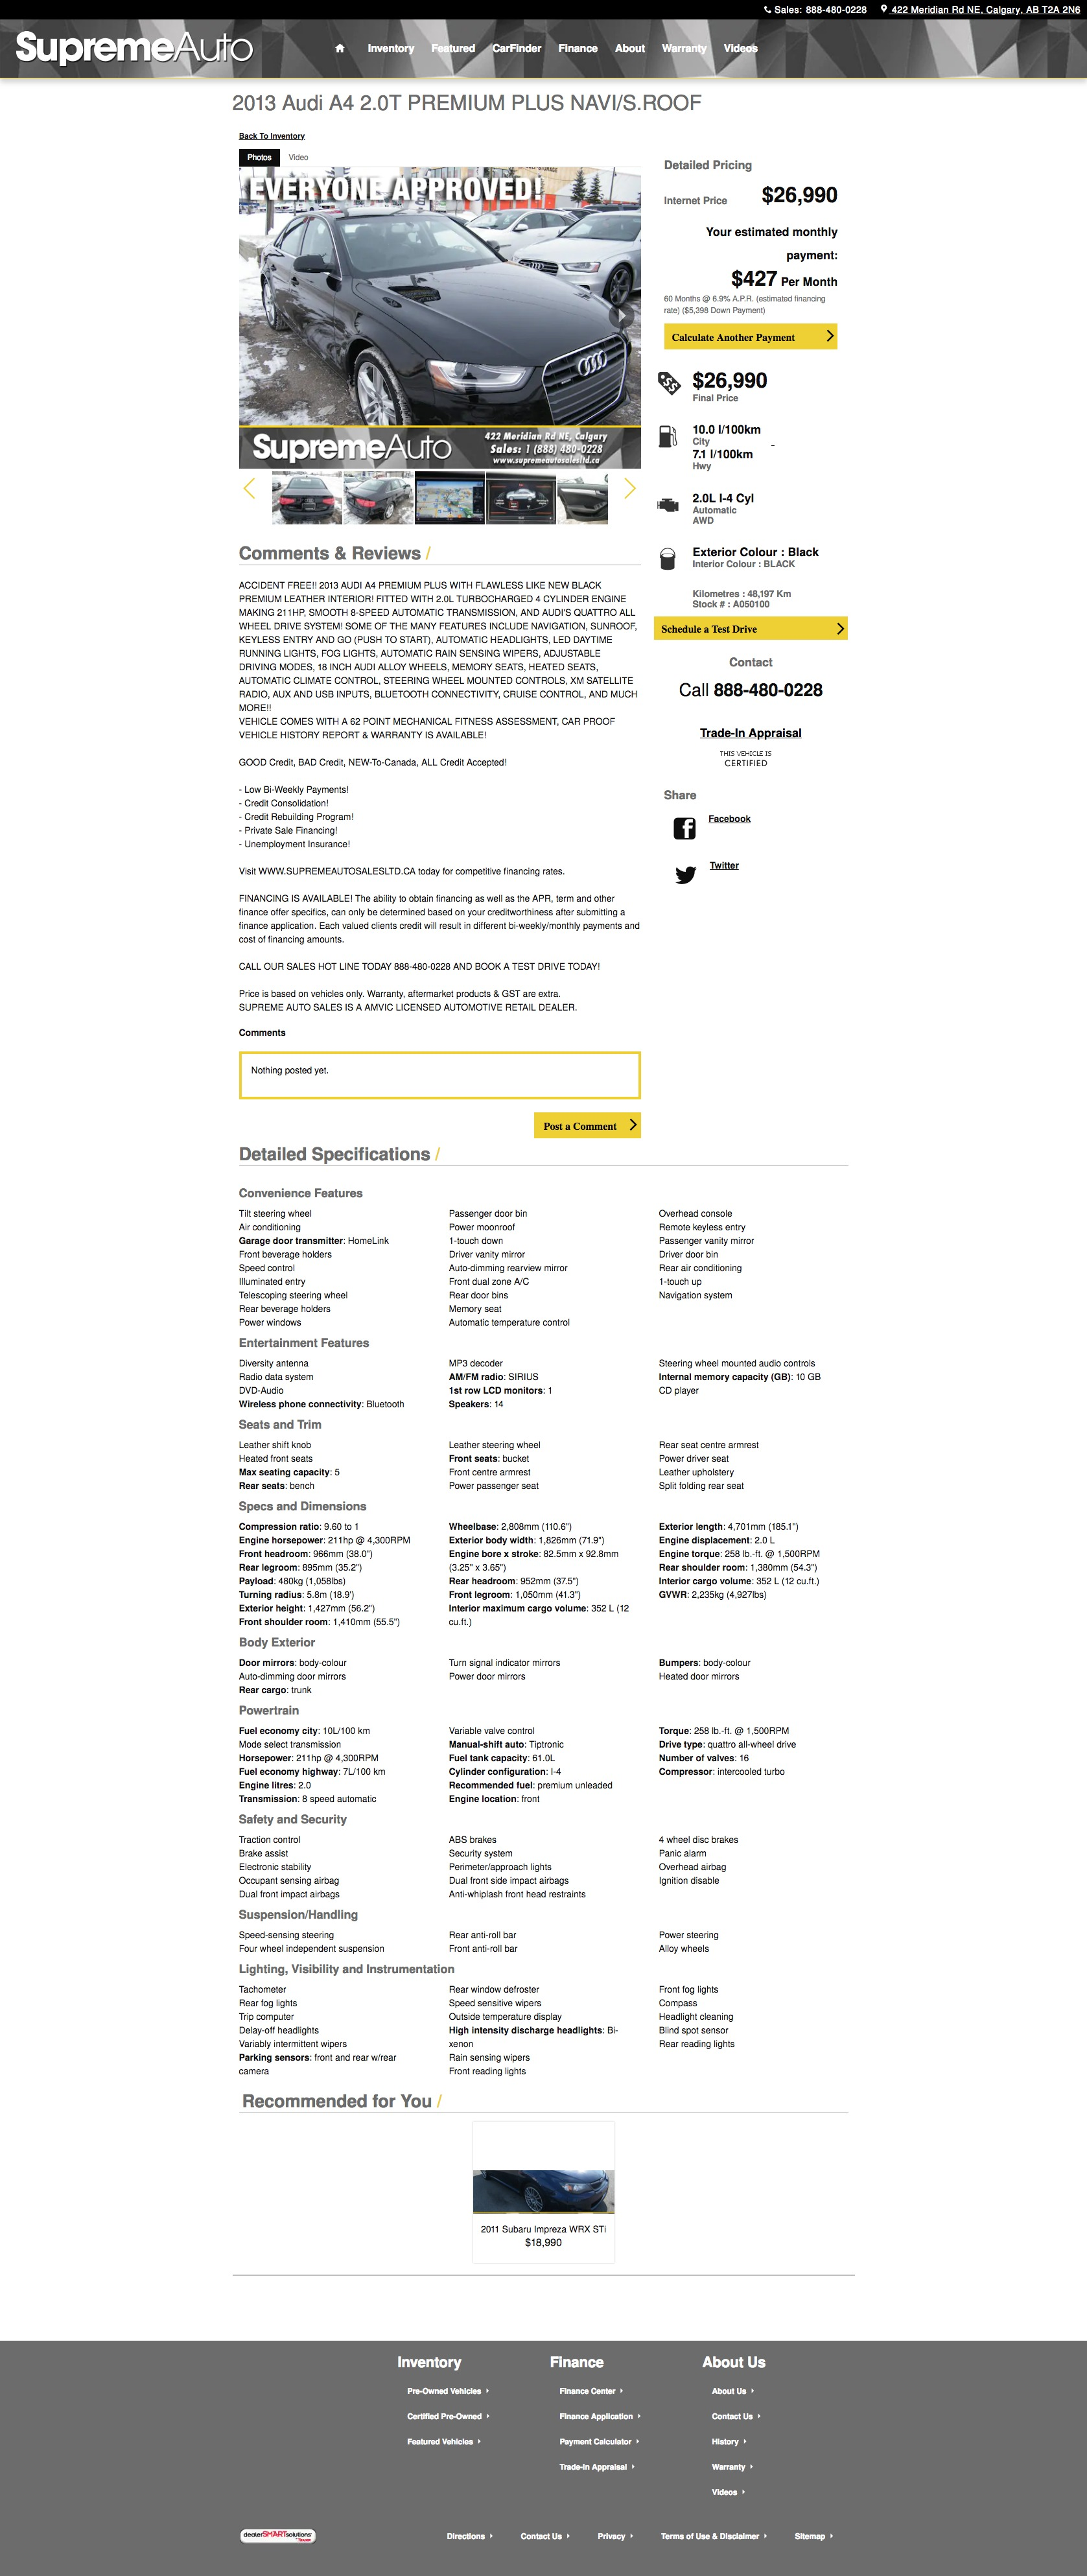car: (626, 478, 637, 499)
